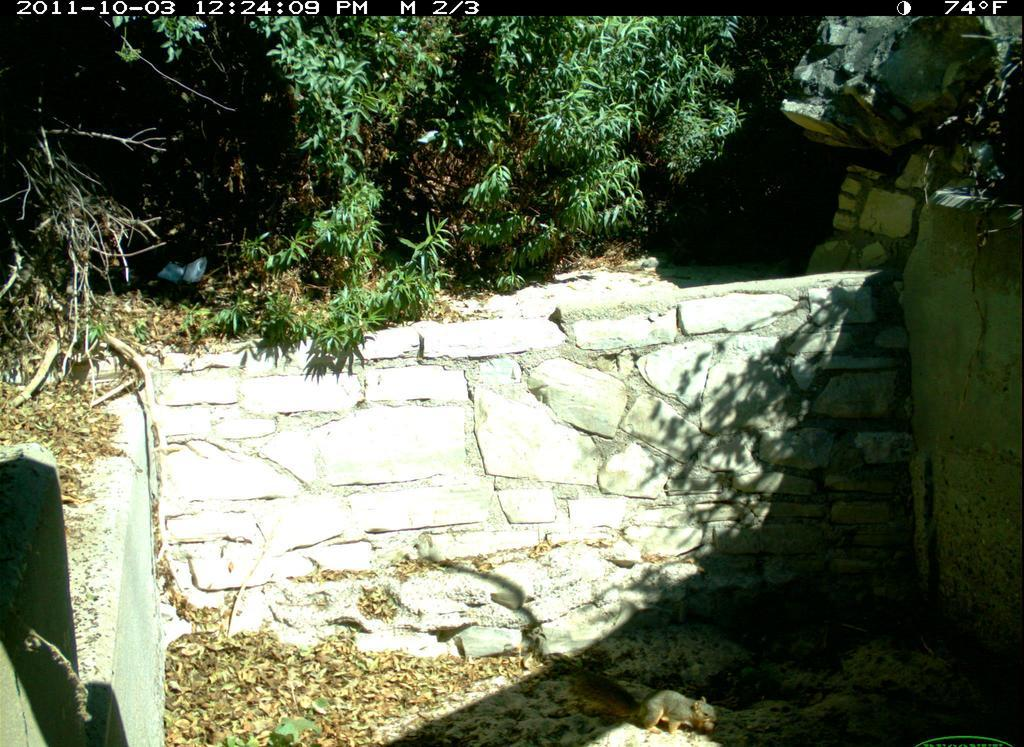squirrel: (552, 656, 731, 744)
